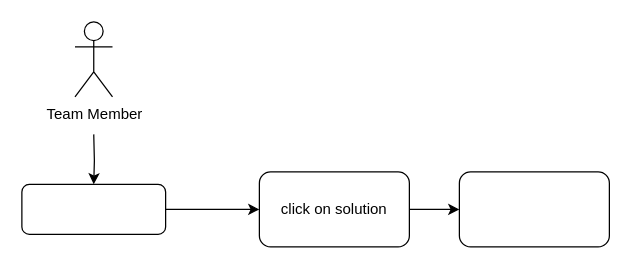
Some shapes in this 631 by 269 pixel diagram are drawn without their labels. The box of each missing label's shape, as (x1, y1, x2, y2) in pixels:
click on the tasks: (21, 183, 166, 234)
edit the solution: (458, 171, 609, 247)
